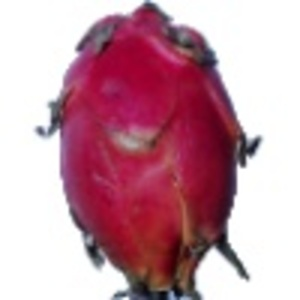pitaia: (34, 1, 265, 300)
